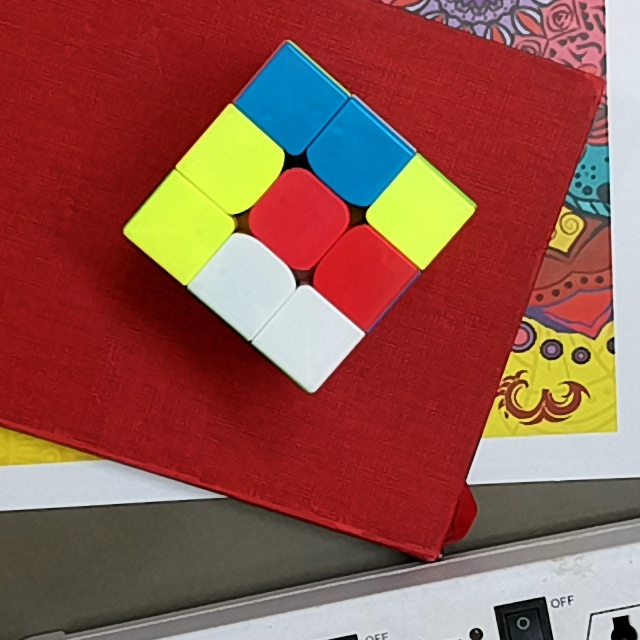tile: (271, 190, 328, 248), (330, 129, 387, 186), (215, 258, 274, 312), (263, 74, 319, 129), (335, 246, 391, 301), (206, 135, 261, 191), (153, 200, 209, 255), (283, 310, 336, 365), (397, 186, 449, 238)
